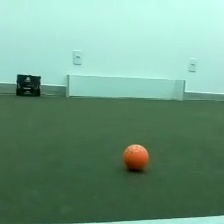ball: (121, 142, 151, 173)
goal: (63, 71, 187, 102)
robot: (14, 71, 42, 98)
